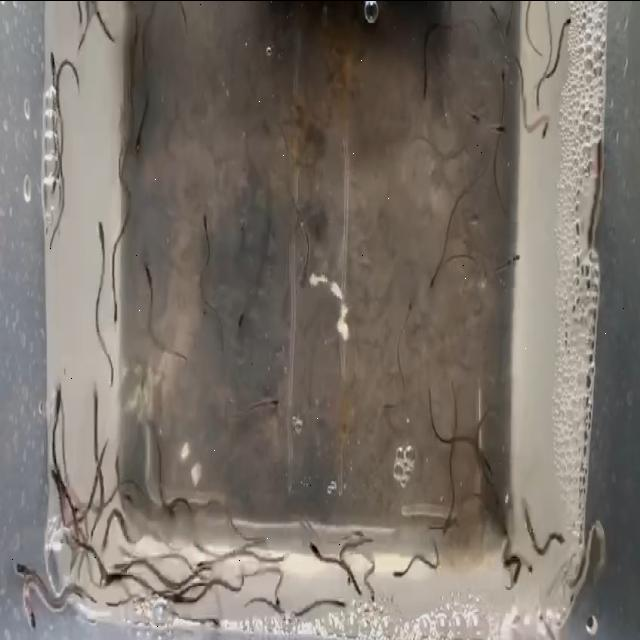inactive_glass_eel: (504, 225, 534, 285), (286, 256, 316, 308), (539, 94, 571, 140), (96, 560, 126, 600), (548, 510, 570, 560), (396, 279, 424, 317), (92, 213, 110, 271), (14, 530, 36, 576), (486, 107, 514, 142), (124, 125, 146, 169), (430, 246, 451, 292), (226, 294, 248, 336), (264, 388, 284, 434), (42, 456, 64, 496), (23, 604, 47, 640), (142, 246, 164, 283), (48, 384, 68, 424), (42, 51, 58, 93), (307, 529, 323, 565), (194, 207, 212, 236), (108, 302, 124, 332), (392, 556, 408, 584), (563, 13, 577, 41), (272, 588, 282, 624)
